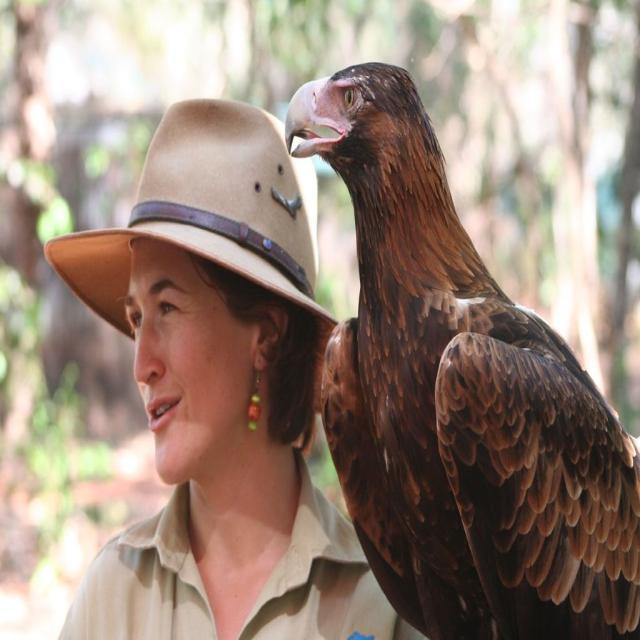Hat: (41, 94, 341, 413)
